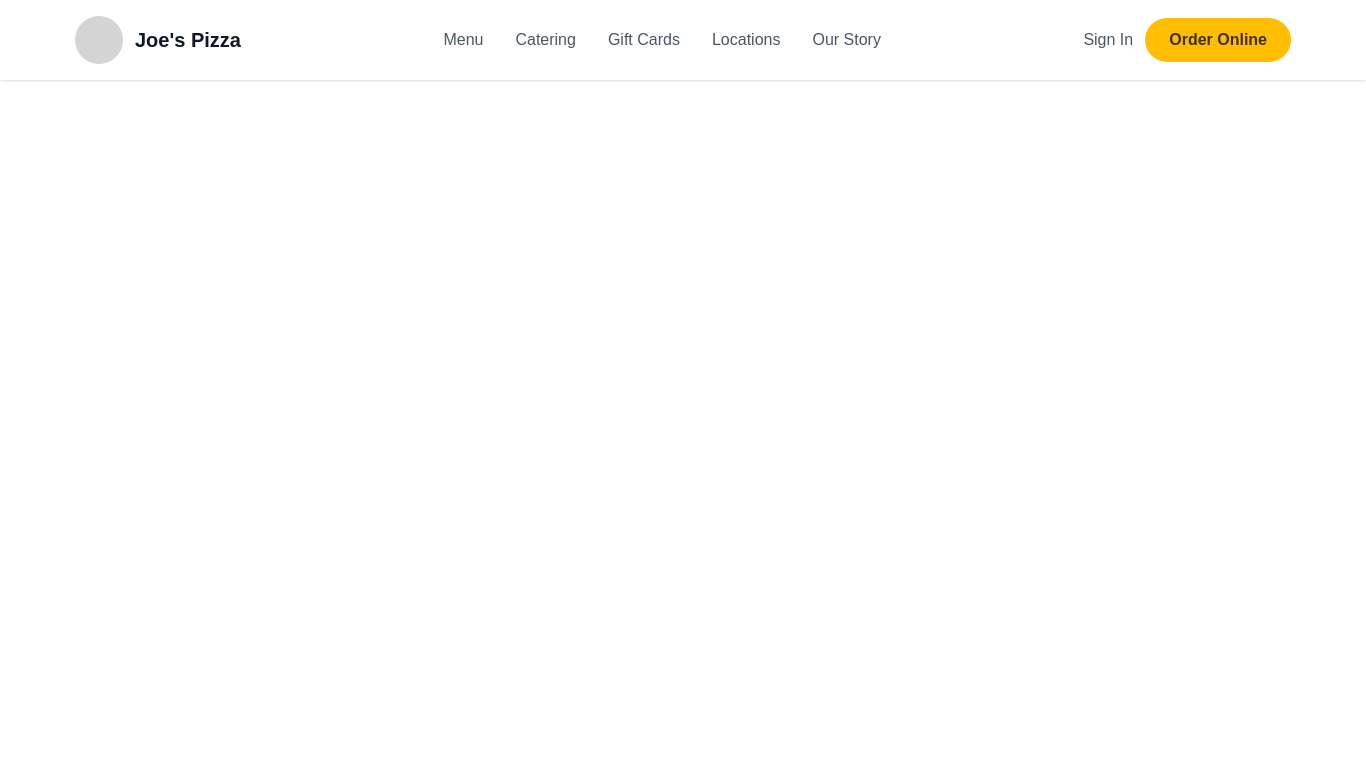
Test: Navigation › Sign In modal › should open Sign In modal when button is clicked
The image size is (1366, 768).
Click the button "Sign In" at (1108, 40), box [1083, 28, 1133, 52]
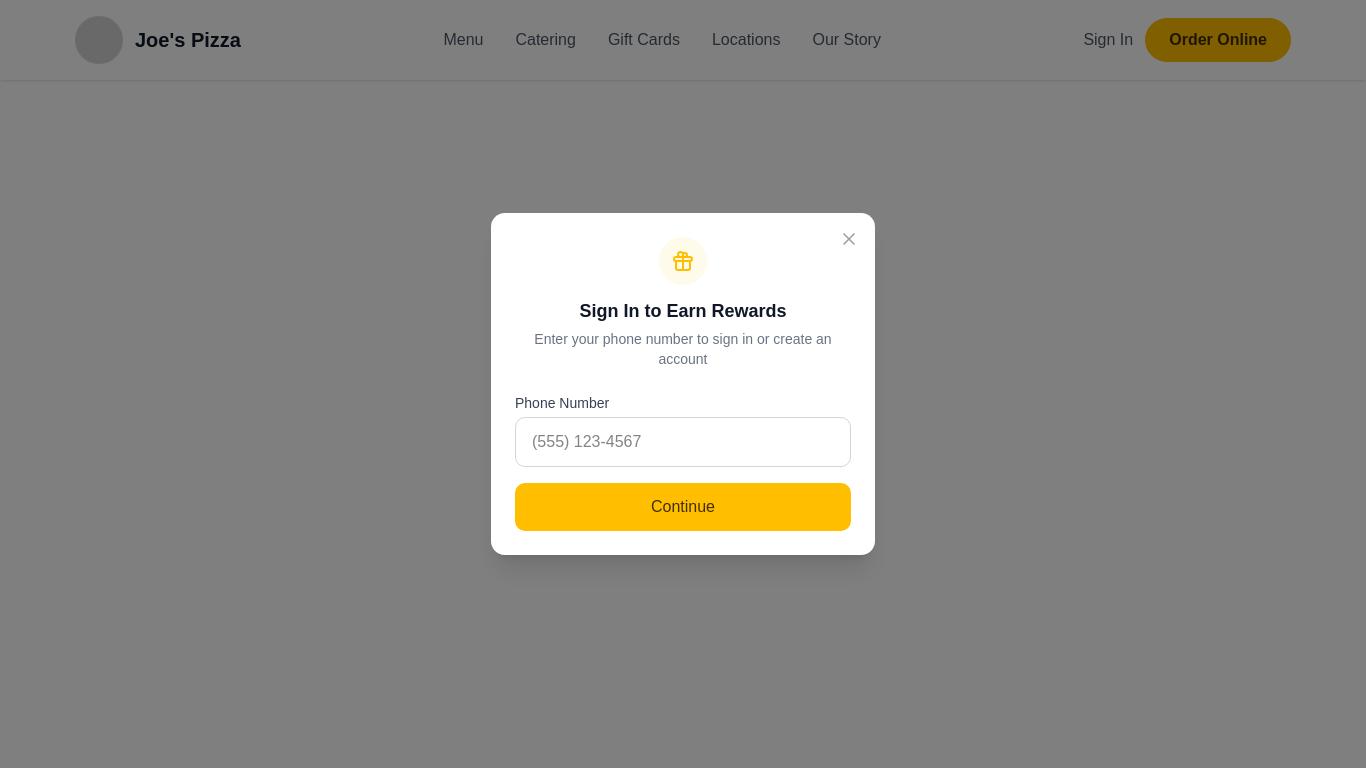
Expected: the heading "Sign In to Earn Rewards" is shown, [580, 301, 786, 321]
Expected: the field with placeholder "(555) 123-4567" is shown, [515, 417, 851, 467]
